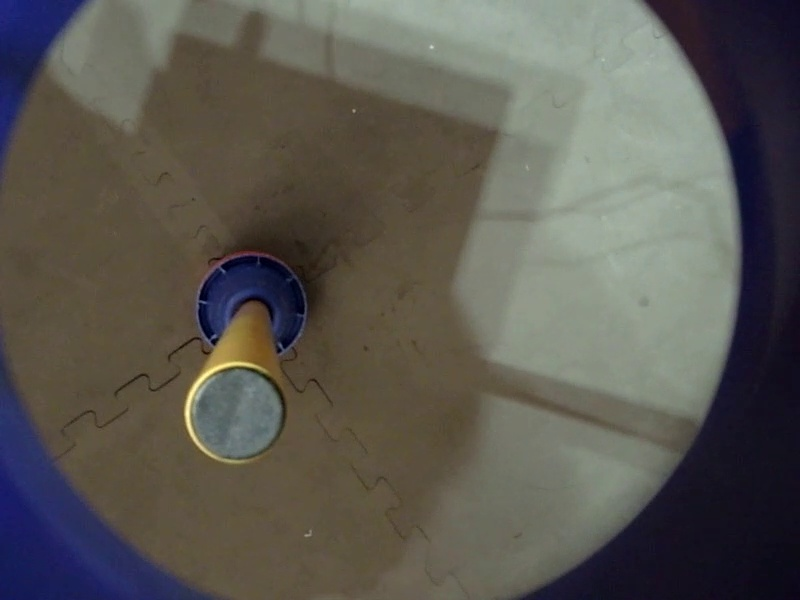tip: (185, 350, 290, 468)
